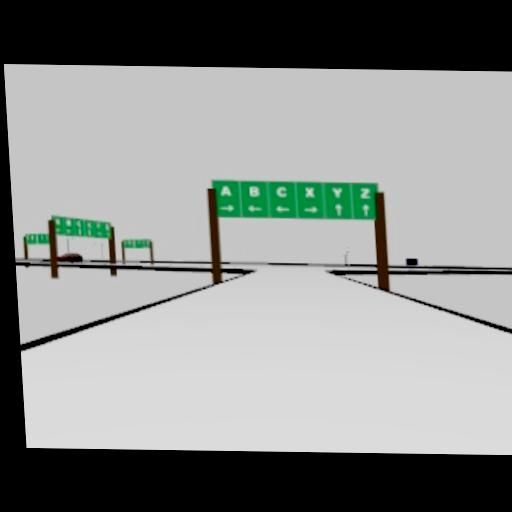A: (220, 186, 232, 197)
B: (248, 186, 260, 197)
C: (275, 185, 287, 199)
Left: (247, 204, 263, 213), (275, 205, 291, 213)
Right: (219, 204, 235, 213), (303, 206, 319, 215)
Straight: (334, 203, 343, 216), (362, 204, 371, 217)
X: (304, 187, 316, 198)
Y: (331, 187, 343, 198)
Z: (359, 188, 371, 199)
